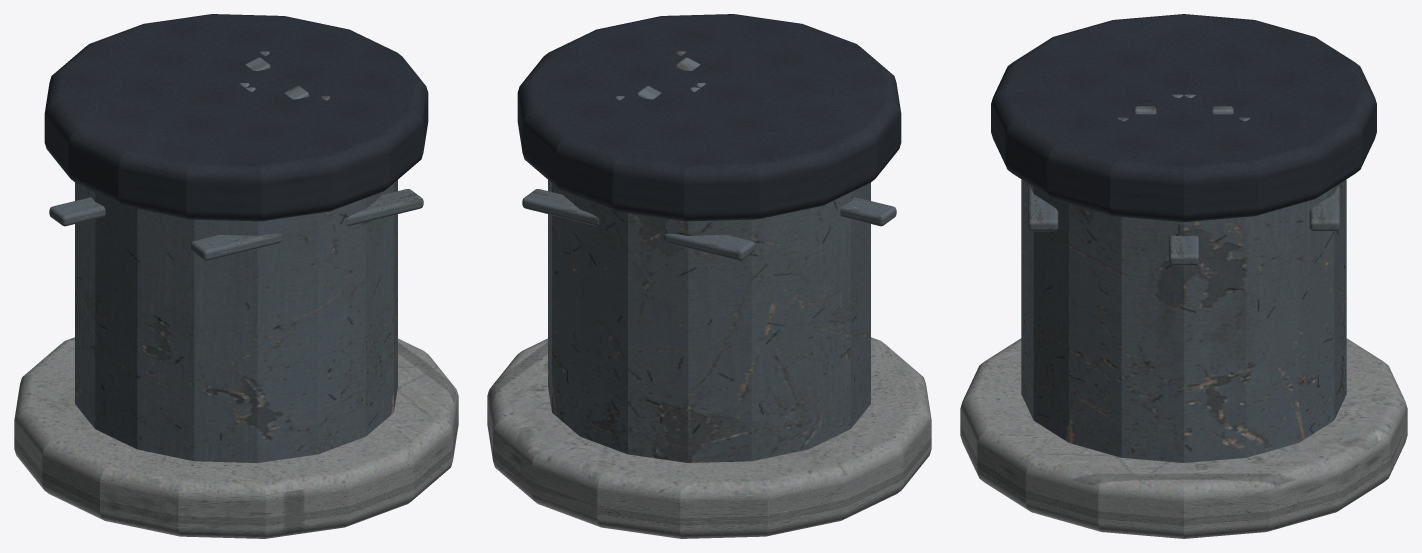
The model's file is cooling_vent.glb.
3 views of the same model, side by side, from view 1: azimuth 30°, elevation 25°; view 2: azimuth 150°, elevation 25°; view 3: azimuth 270°, elevation 25° (orthographic).
Parts seen in each view (by area): view 1: VentHousing, VentCap, VentBase, VentLouver2, VentLouver1, VentLouver3; view 2: VentHousing, VentCap, VentBase, VentLouver4, VentLouver5, VentLouver3; view 3: VentHousing, VentCap, VentBase, VentLouver1, VentLouver5, VentLouver0.
Part boxes in pixels (box(x1,y1,x2,y2)): VentHousing: box(75, 180, 397, 462); VentCap: box(44, 14, 428, 221); VentBase: box(14, 337, 458, 538); VentLouver2: box(190, 233, 281, 260); VentLouver1: box(346, 189, 423, 225); VentLouver3: box(49, 197, 105, 226); VentHousing: box(548, 180, 870, 462); VentCap: box(517, 14, 901, 221); VentBase: box(487, 337, 931, 538); VentLouver4: box(664, 233, 755, 260); VentLouver5: box(522, 189, 599, 225); VentLouver3: box(840, 197, 896, 226); VentHousing: box(1021, 179, 1346, 462); VentCap: box(991, 14, 1376, 221); VentBase: box(960, 338, 1407, 538); VentLouver1: box(1028, 186, 1058, 231); VentLouver5: box(1309, 186, 1339, 231); VentLouver0: box(1168, 235, 1199, 265).
Size of the model in its own units: 4.4 by 3.94 by 4.4.
4 materials, 4 textured.
